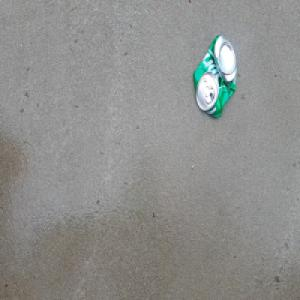SodaCan: (192, 33, 238, 120)
